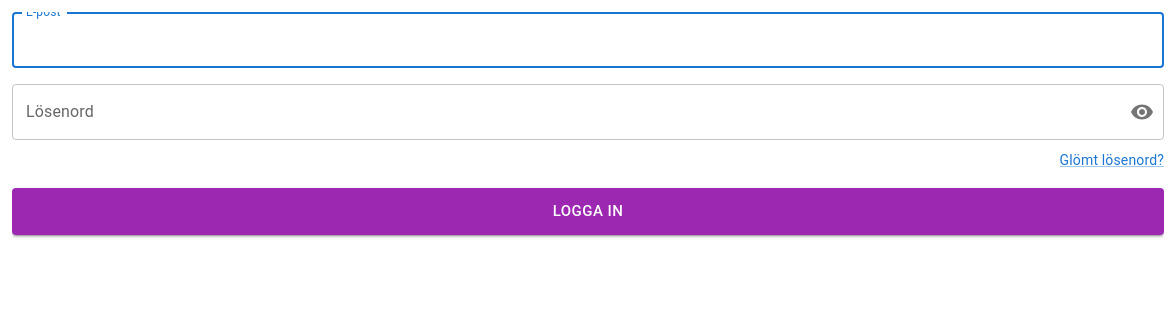
Test: LoginForm › should show error alert on failed login
The image size is (1176, 319).
Type "test@example.com" into the field labelled "E-post" at coordinates (588, 40), box [12,12,1164,68]
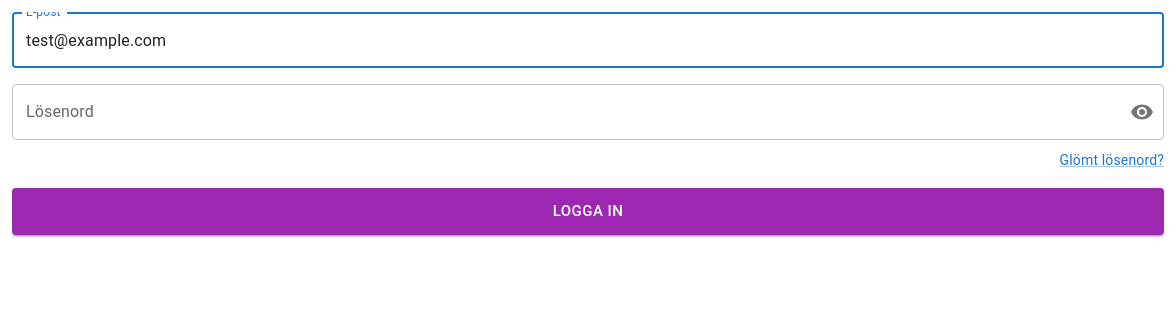
Type "WrongPassword!" into the password field labelled "Lösenord" at coordinates (563, 112), box [12,84,1114,140]
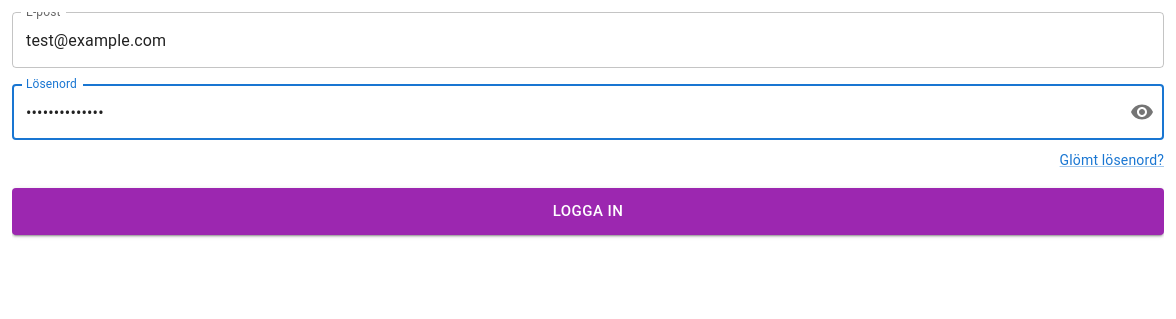
Click the button "Logga in" at coordinates (588, 212), box [12,188,1164,235]
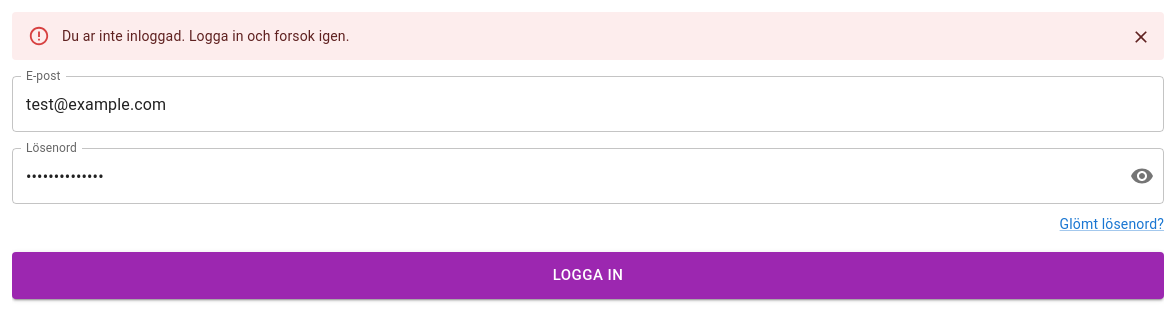
Result: the message "Du ar inte inloggad. Logga in och forsok igen." is shown at [12,12,1164,60]
